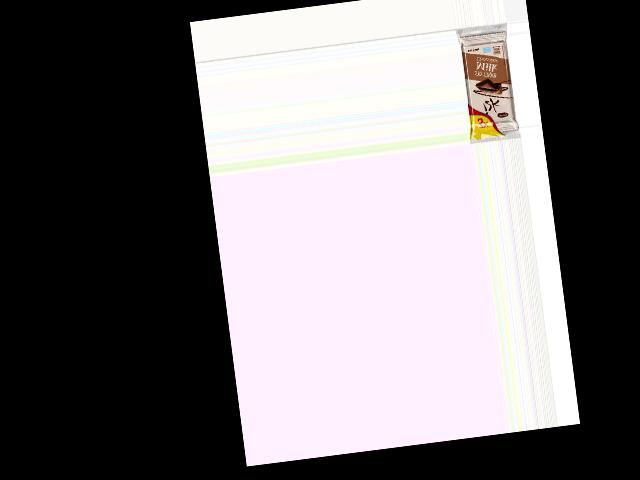chocolate: (457, 33, 522, 144)
